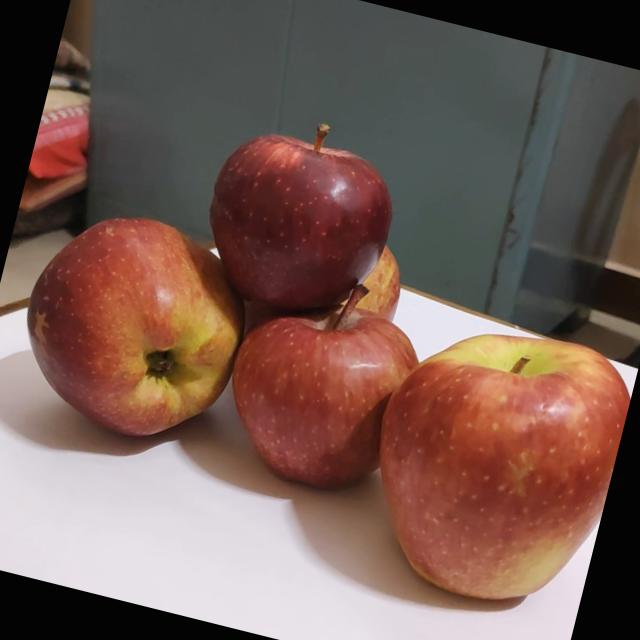apple: (344, 292, 640, 624), (0, 184, 271, 457), (205, 251, 441, 512), (190, 91, 420, 328), (332, 226, 417, 326)
